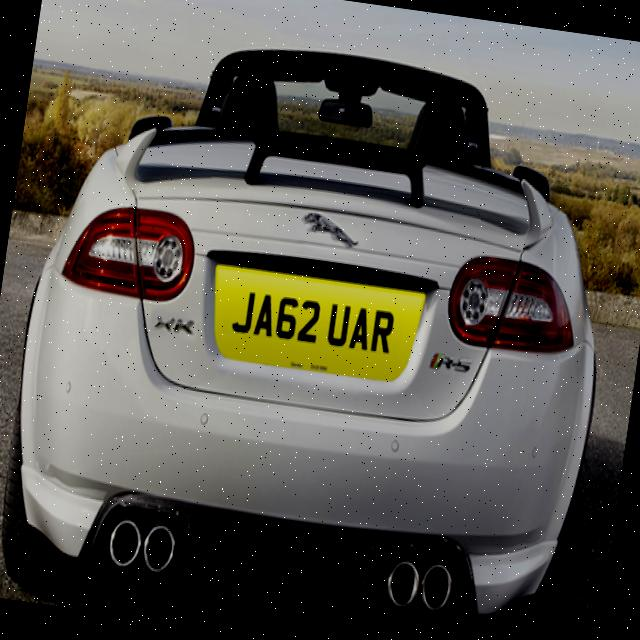Autre: (200, 258, 422, 387)
